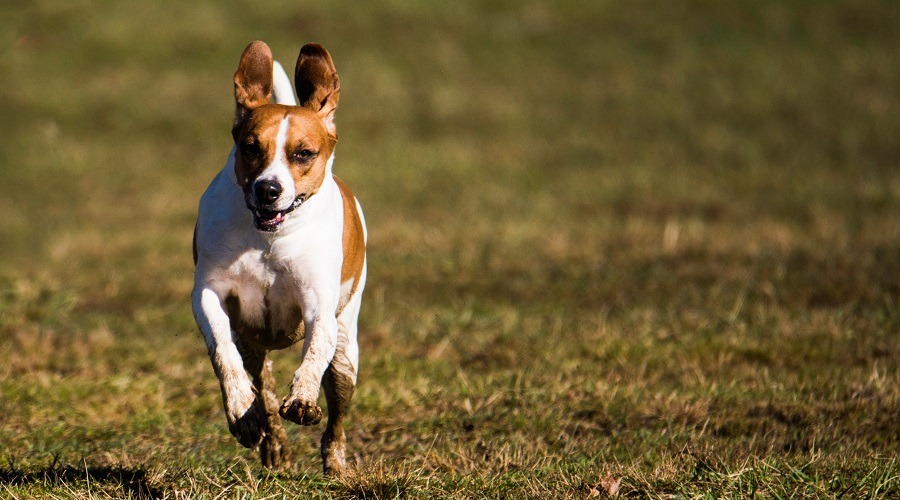dog: (165, 34, 390, 480)
